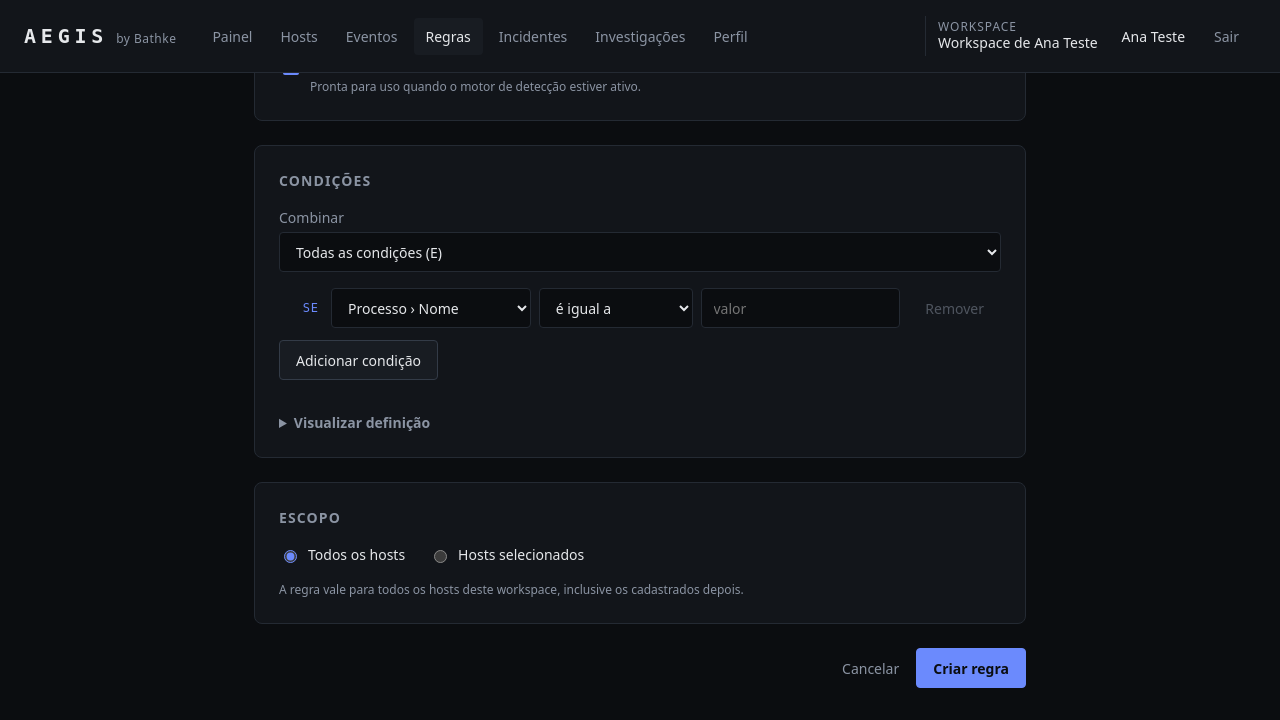
Test case: create rule (separate screen) with the condition builder › explains what to do when the workspace has no hosts
The image size is (1280, 720).
(page scrolled)
Step 1. Click the radio button labelled "Hosts selecionados" → [441, 556], box x1=434 y1=550 x2=447 y2=562
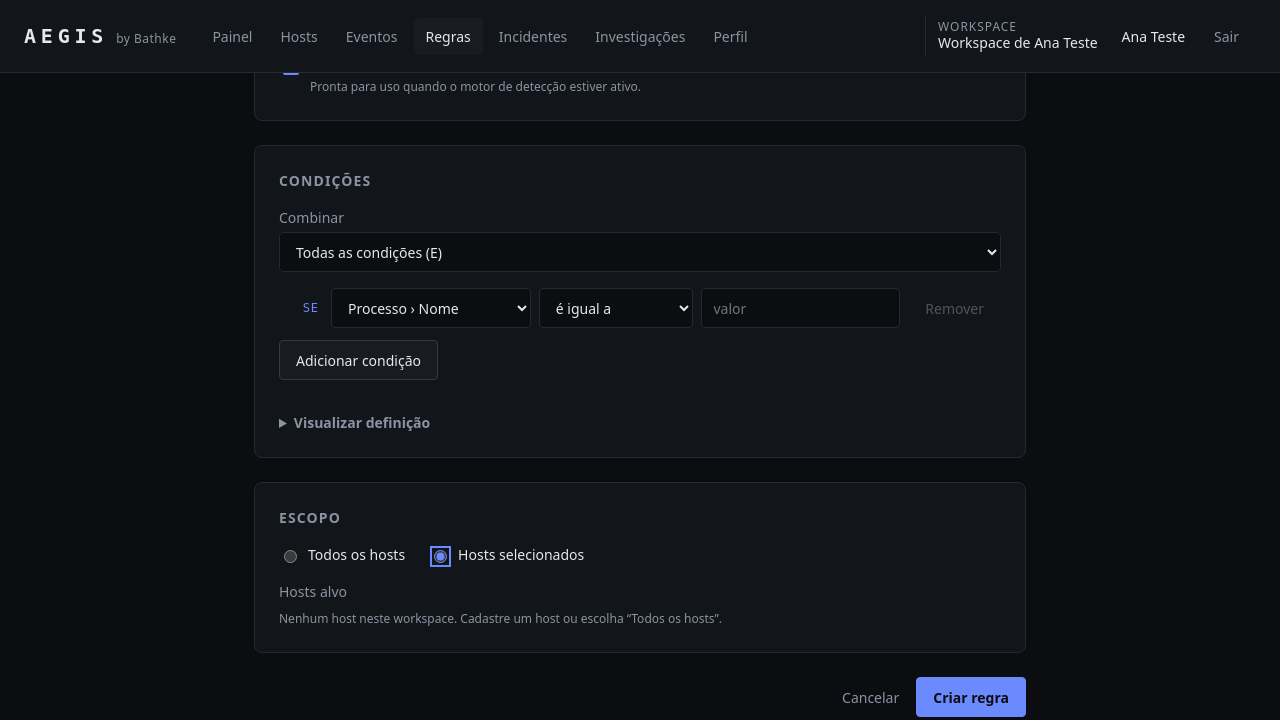
expect the text "Nenhum host neste workspace" is shown: met, box x1=279 y1=610 x2=460 y2=627
expect the link "Cadastre um host" is shown: met, box x1=460 y1=610 x2=560 y2=627
